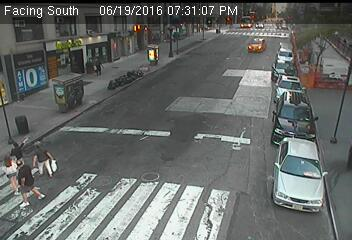neg: (141, 39, 161, 66), (121, 69, 133, 85), (169, 27, 177, 37), (216, 23, 223, 33)
pos: (4, 156, 39, 203), (25, 137, 56, 178), (4, 134, 25, 162), (90, 55, 105, 76)
